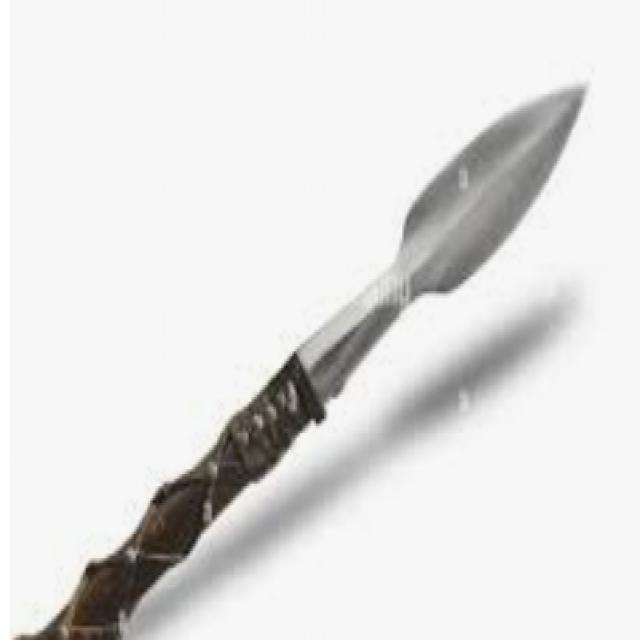spear: (27, 64, 598, 634)
